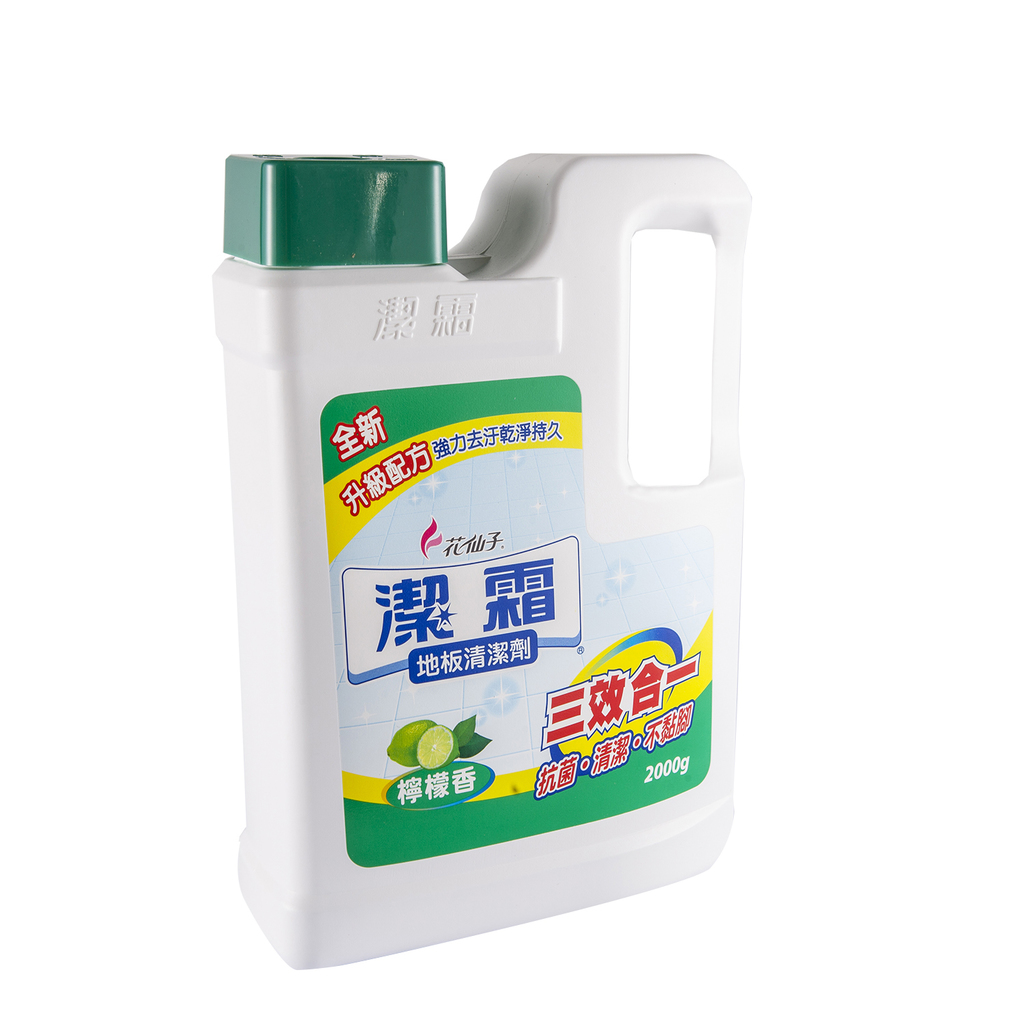cleaner: (209, 145, 757, 975)
